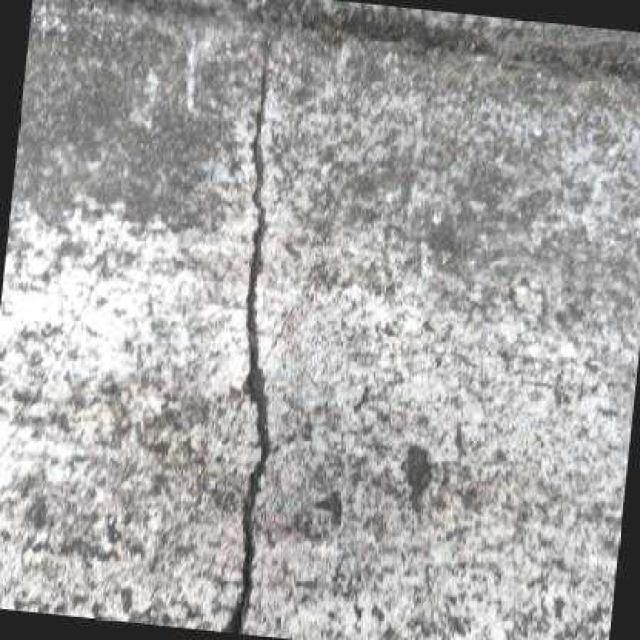D00: (230, 62, 268, 633)
